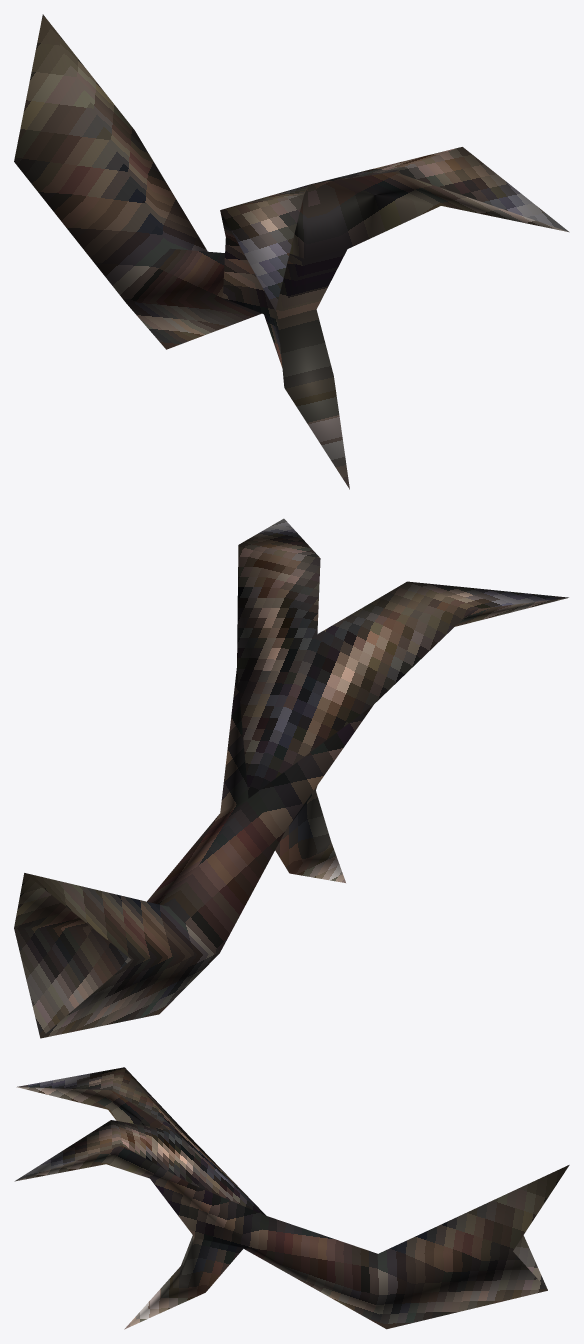
Rendered from aliengrunt_brazo_chico.obj.
3 views of the same model, one above another, from view 1: azimuth 30°, elevation 25°; view 2: azimuth 150°, elevation 25°; view 3: azimuth 270°, elevation 25° (orthographic). The views are drawn at different scales.
Bounding box in the file's own units: 0.3224 × 0.3332 × 0.7546.
